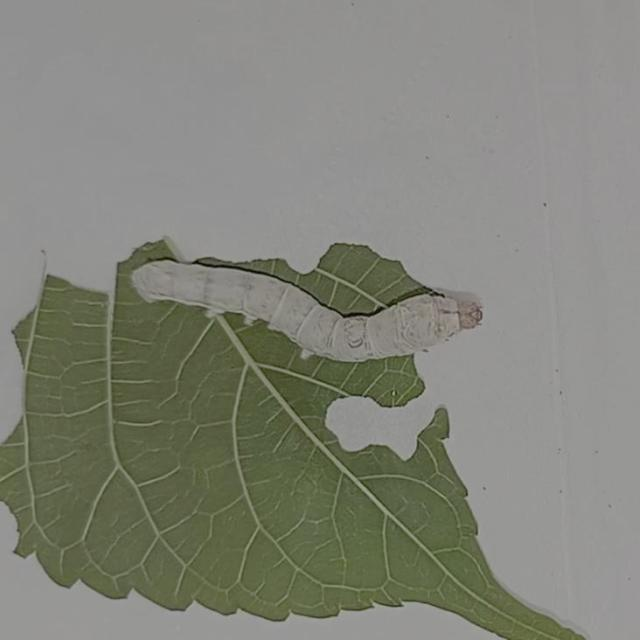Healthy: (128, 241, 487, 390)
